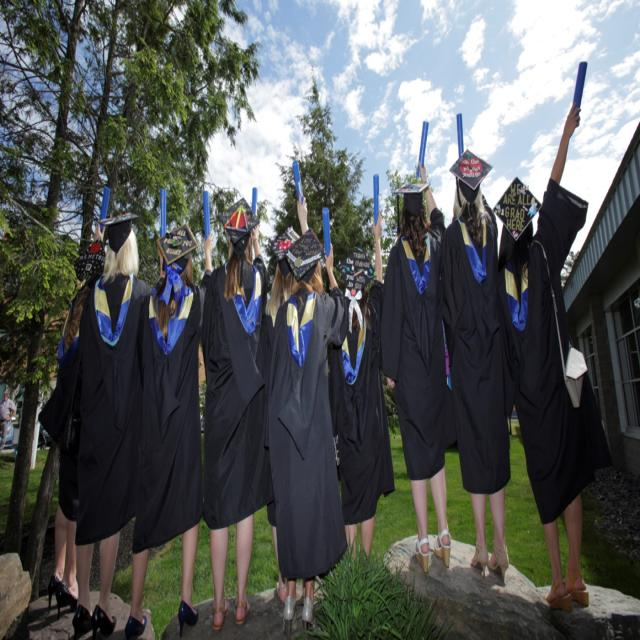body: (489, 57, 616, 615), (122, 222, 216, 640), (264, 201, 352, 638), (377, 118, 455, 578), (72, 210, 152, 640), (198, 184, 272, 636), (438, 147, 514, 584), (37, 220, 107, 619), (330, 172, 395, 569), (260, 182, 311, 606), (0, 388, 17, 451)
